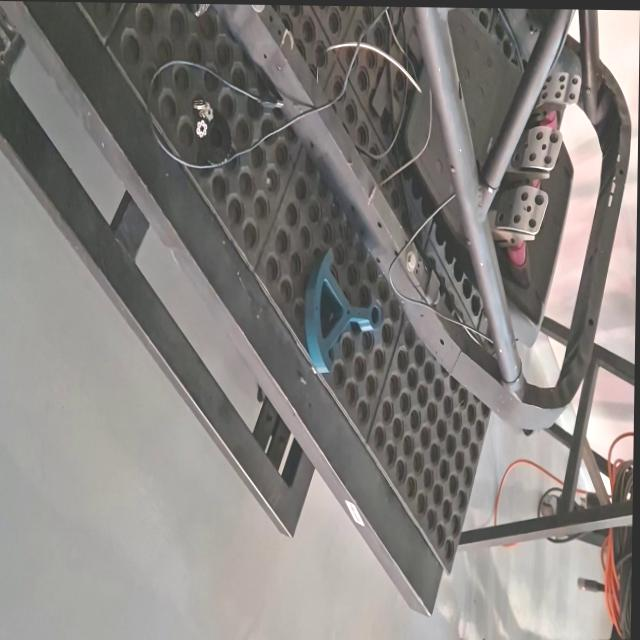haptic: (303, 245, 383, 375)
